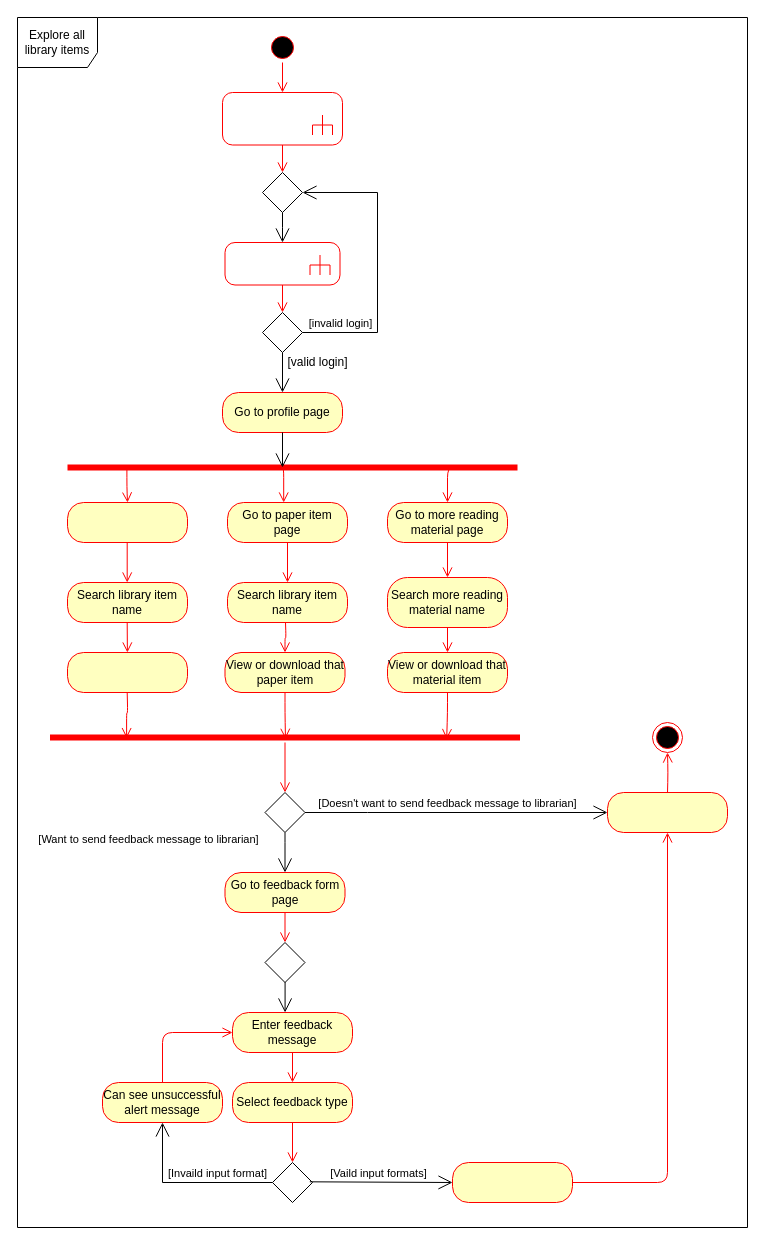
Image size: 765x1245. Some labels were removed from this diagram. Here are the shapes that lost their labels. From the top down, the centre of each, then its label:
[282,118]: Register to the system
[282,263]: Login
[127,522]: Go to library item Page
[127,672]: View or download that library item
[667,812]: Logout
[512,1182]: Can see successful alert message
